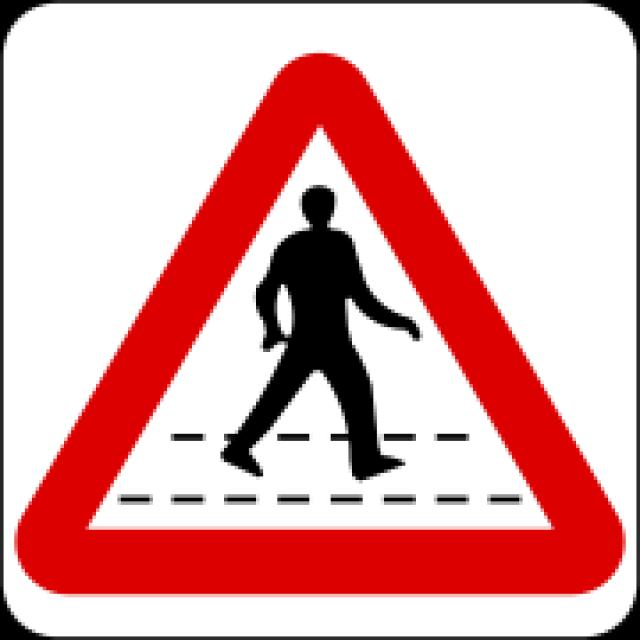Pedestrian crosswalk: (11, 48, 632, 608)
